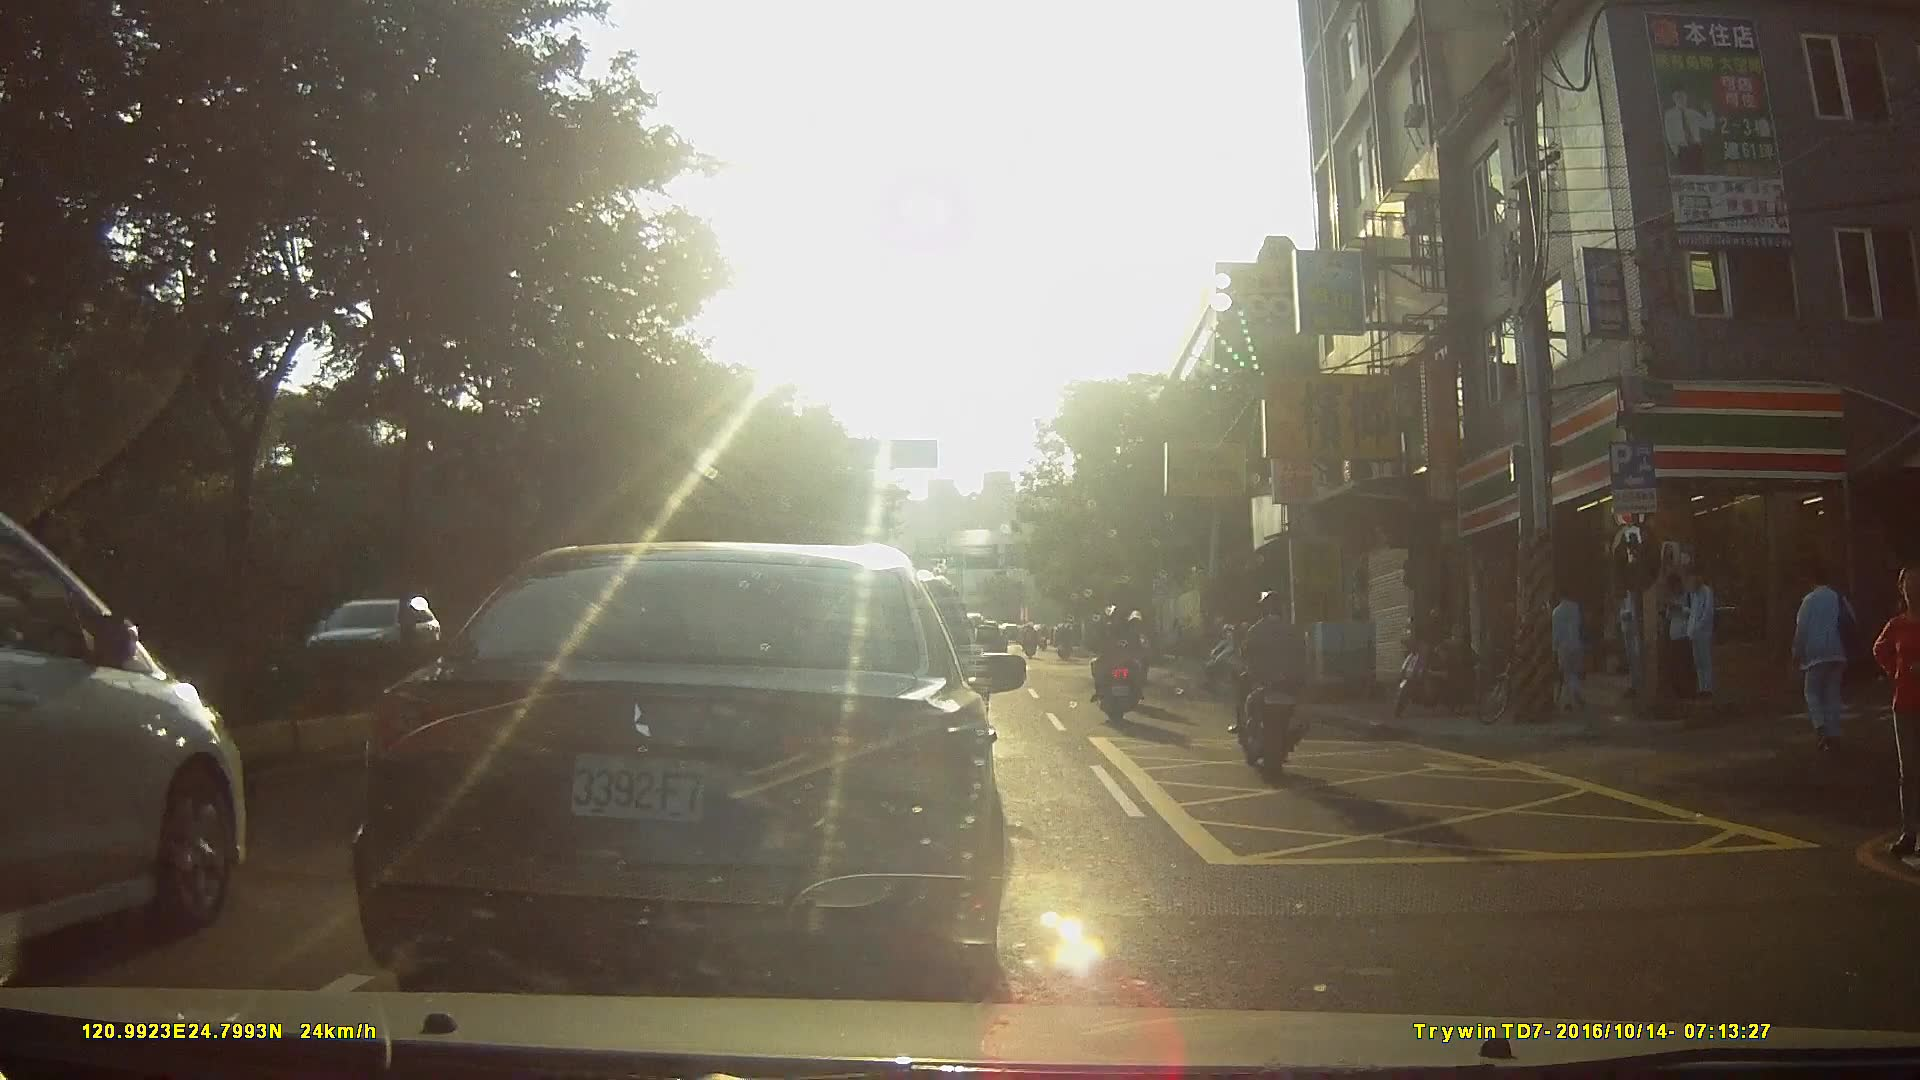pedestrian: (1785, 565, 1864, 759), (1871, 567, 1920, 854), (1537, 579, 1587, 715), (1671, 569, 1719, 699), (1614, 573, 1655, 708), (1661, 567, 1699, 711)
rider: (1233, 593, 1311, 771), (1091, 605, 1145, 722), (1055, 622, 1077, 664), (1021, 623, 1041, 663)
vehicle: (362, 542, 1037, 983), (1, 500, 295, 966), (304, 594, 444, 699)
